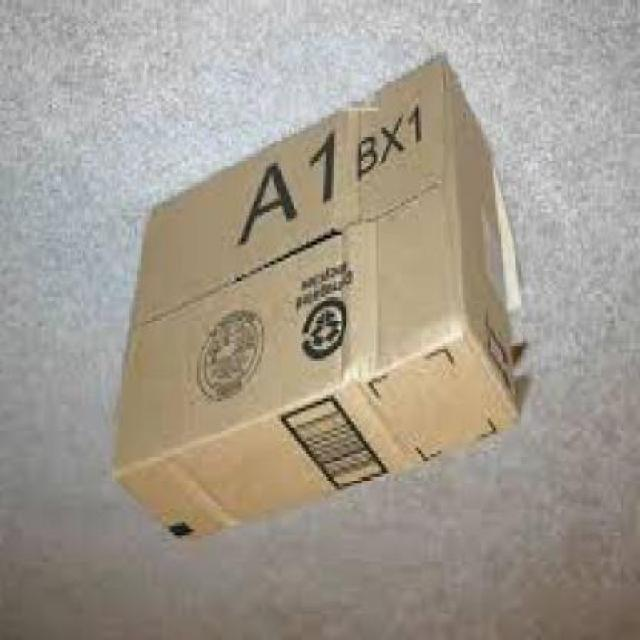cardboard: (115, 63, 534, 549)
